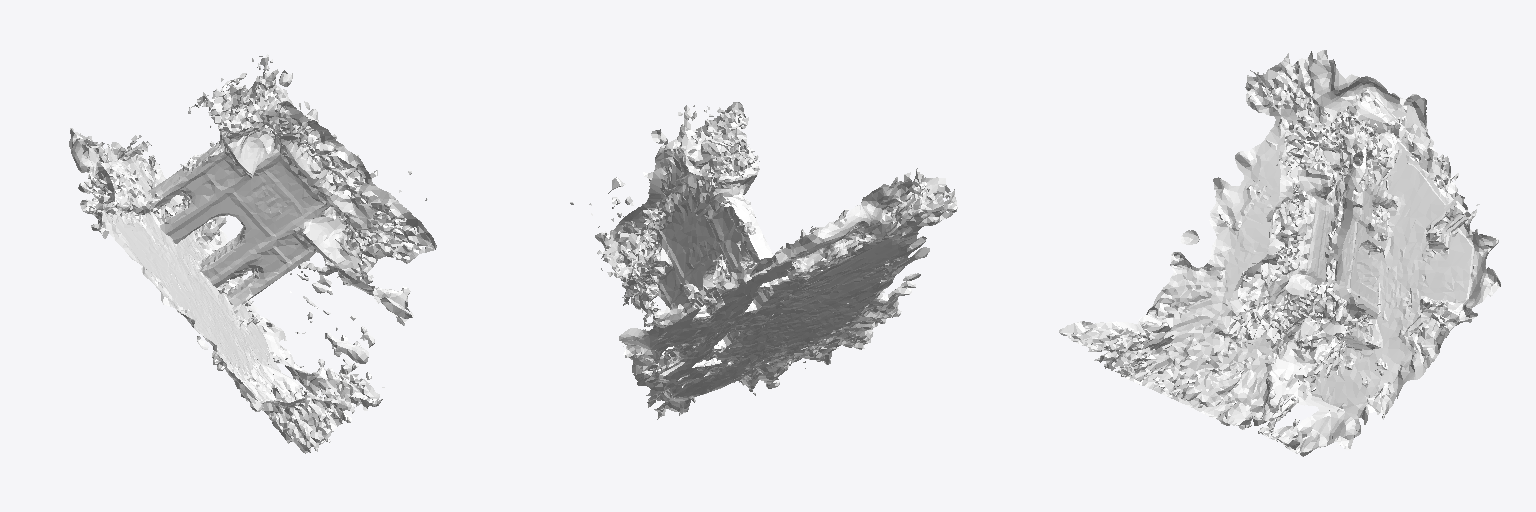
File: 360Gate-Nov29.obj
3 renders of one model, left to right at view 1: azimuth 30°, elevation 25°; view 2: azimuth 150°, elevation 25°; view 3: azimuth 270°, elevation 25°, orthographic.
Size of the model in its own units: 60.91 by 54.56 by 65.97.